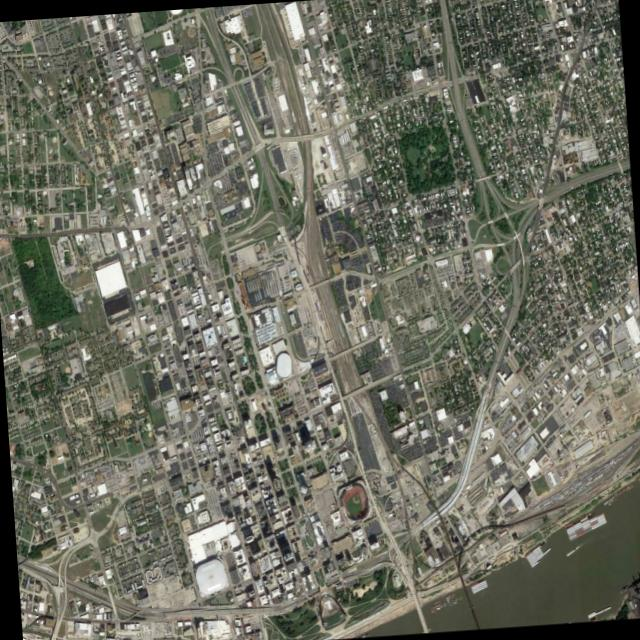ship: (564, 509, 606, 541), (523, 540, 552, 568), (586, 604, 612, 621), (470, 579, 487, 594)
